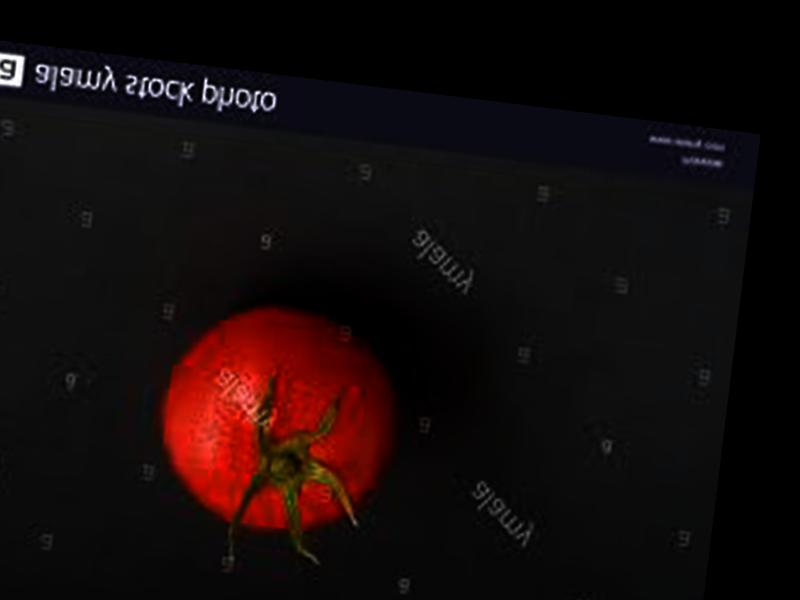Tomato: (147, 300, 410, 546)
